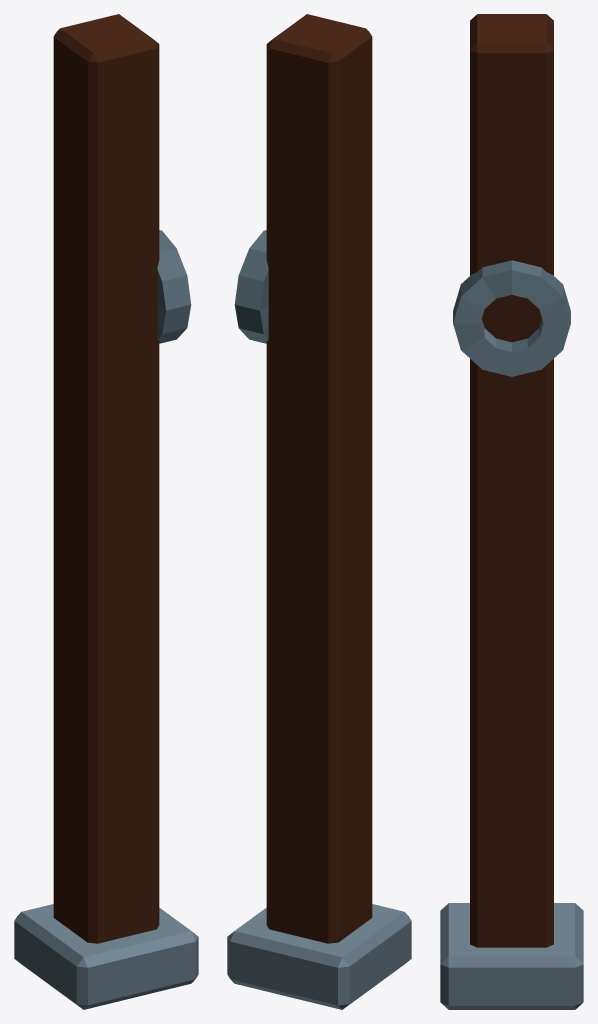
Rendered from D22_Well_Post.fbx.
3 views of the same model, side by side, from view 1: azimuth 30°, elevation 25°; view 2: azimuth 150°, elevation 25°; view 3: azimuth 270°, elevation 25° (orthographic).
Parts seen in each view (by area): view 1: D22_Well_Post; view 2: D22_Well_Post; view 3: D22_Well_Post.
Boxes of the visible parts, x1,y1,x2,y2 form: D22_Well_Post: [14, 14, 198, 1009]; D22_Well_Post: [227, 14, 411, 1009]; D22_Well_Post: [440, 14, 583, 1009].
Bounding box in the file's own units: 0.34 × 2.5 × 0.34.
Materials: 3 (3 with a texture image).
